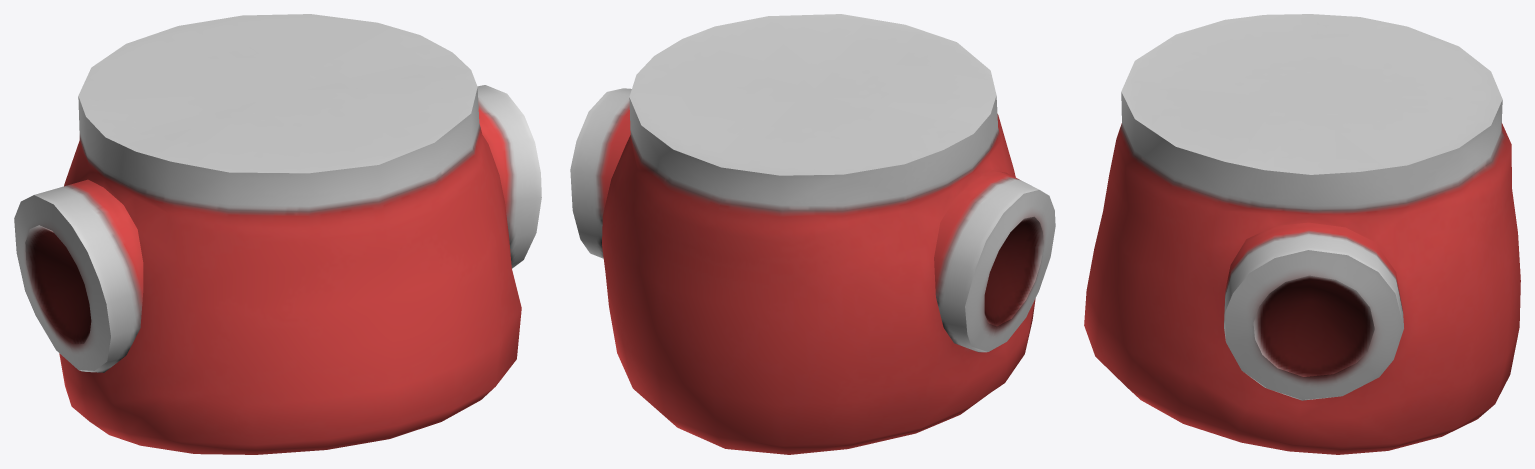
File: IG_Armor_FireProtect.fbx
3 renders of one model, left to right at view 1: azimuth 30°, elevation 25°; view 2: azimuth 150°, elevation 25°; view 3: azimuth 270°, elevation 25°, orthographic. The views are drawn at different scales.
Parts seen in each view (by area): view 1: JLAB_ProtectiveClothes_Body; view 2: JLAB_ProtectiveClothes_Body; view 3: JLAB_ProtectiveClothes_Body.
Boxes of the visible parts, x1=… form: JLAB_ProtectiveClothes_Body: x1=14, y1=14, x2=541, y2=454; JLAB_ProtectiveClothes_Body: x1=570, y1=14, x2=1055, y2=454; JLAB_ProtectiveClothes_Body: x1=1084, y1=14, x2=1520, y2=454.
Size of the model in its own units: 0.7204 by 0.4825 by 0.6302.
Materials: 1 (1 with a texture image).
